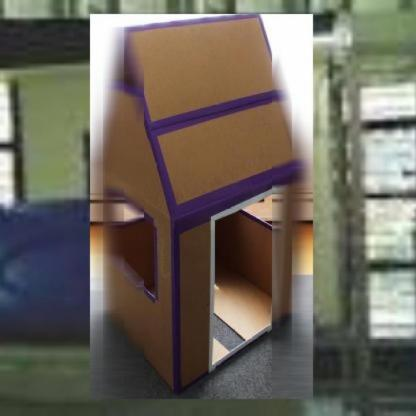-: (87, 9, 317, 405)
